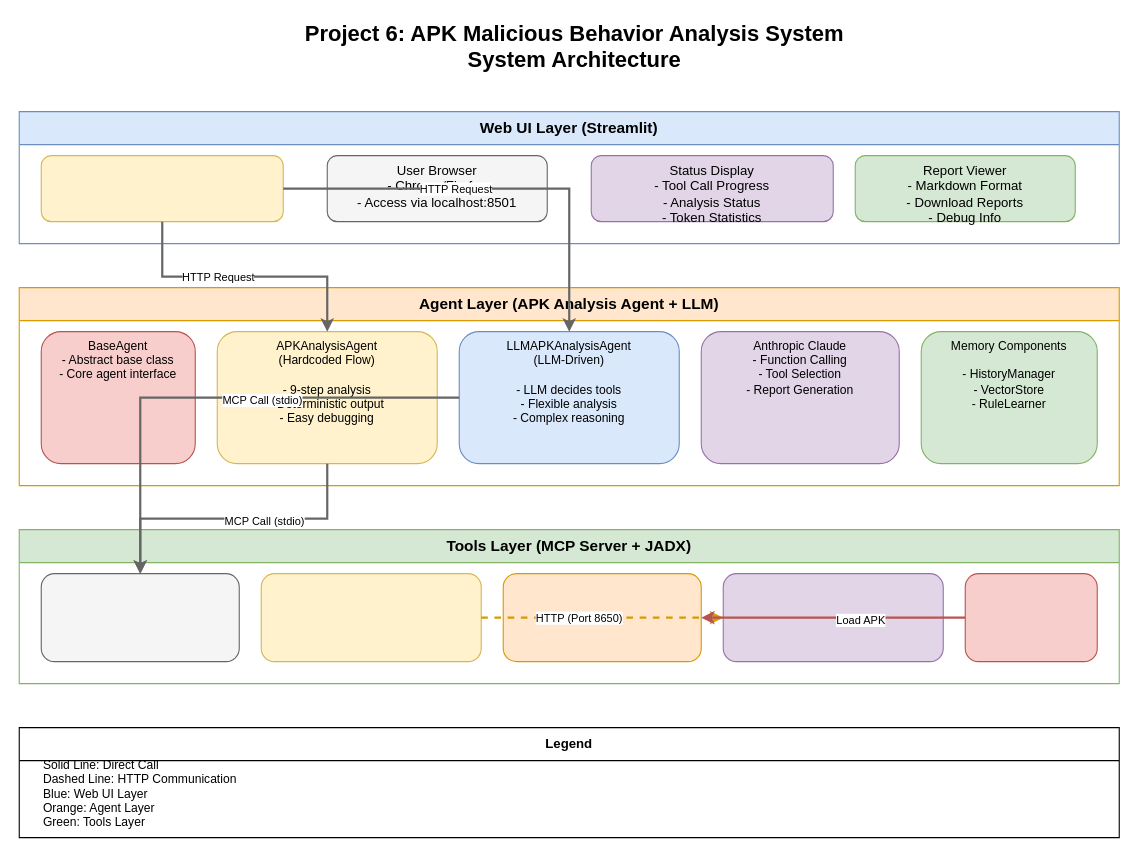
This 1139x857 diagram has some shape labels left out. Each missing label, with the centre of its shape:
"APK File - Android app - Input data" goes at point 1030,617.
"JADX AI MCP Plugin - Tool implementation - JADX API wrapper - Port 8650" goes at point 832,617.
"JADX MCP Server - HTTP endpoint - Tool registry - JSON-RPC" goes at point 370,617.
"JADX-GUI - APK decompilation - Plugin host - HTTP server" goes at point 601,617.
"StdioMCPClient - MCP Protocol - stdio communication - Tool execution" goes at point 139,617.
"Web UI (Streamlit) - File Upload - Configuration - Report Display" goes at point 161,188.
